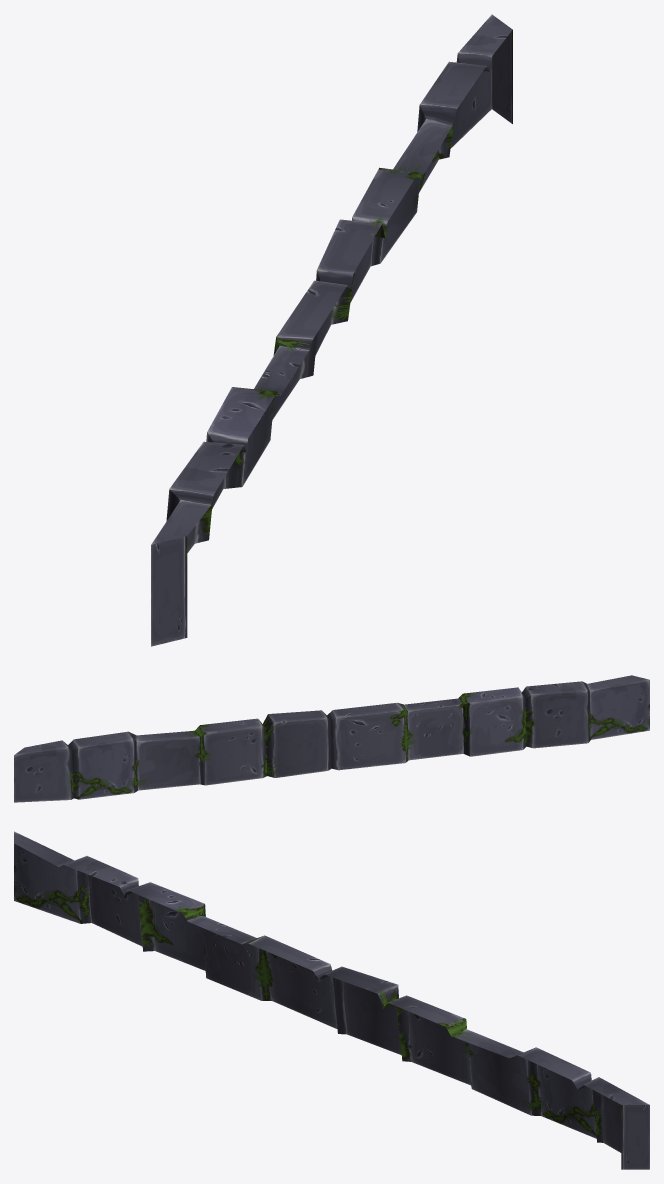
File: MOD_WallTrim_01_M_angle_2.fbx
3 views of the same model, one above another, from view 1: azimuth 30°, elevation 25°; view 2: azimuth 150°, elevation 25°; view 3: azimuth 270°, elevation 25° (orthographic). The views are drawn at different scales.
Visible parts, largest first — view 1: MOD_WallTrim_01_M_angle_2; view 2: MOD_WallTrim_01_M_angle_2; view 3: MOD_WallTrim_01_M_angle_2.
Boxes of the visible parts, x1,y1,x2,y2 form: MOD_WallTrim_01_M_angle_2: (151, 14, 512, 646); MOD_WallTrim_01_M_angle_2: (14, 675, 649, 802); MOD_WallTrim_01_M_angle_2: (14, 831, 649, 1169).
Size of the model in its own units: 445 by 56.26 by 445.
